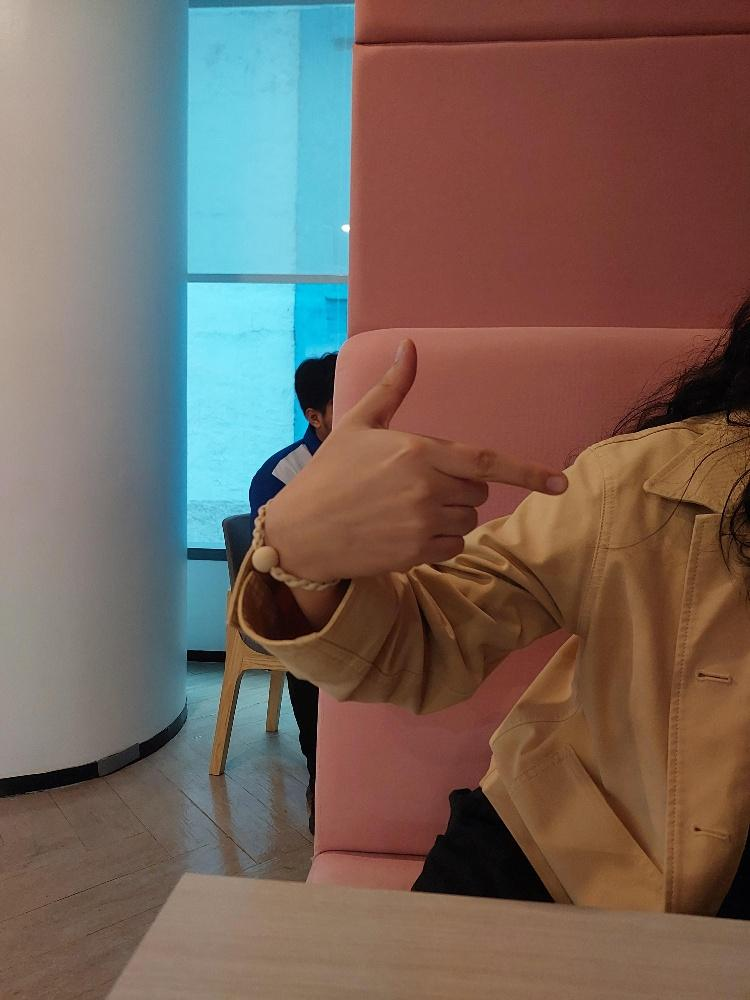g: (255, 330, 573, 592)
